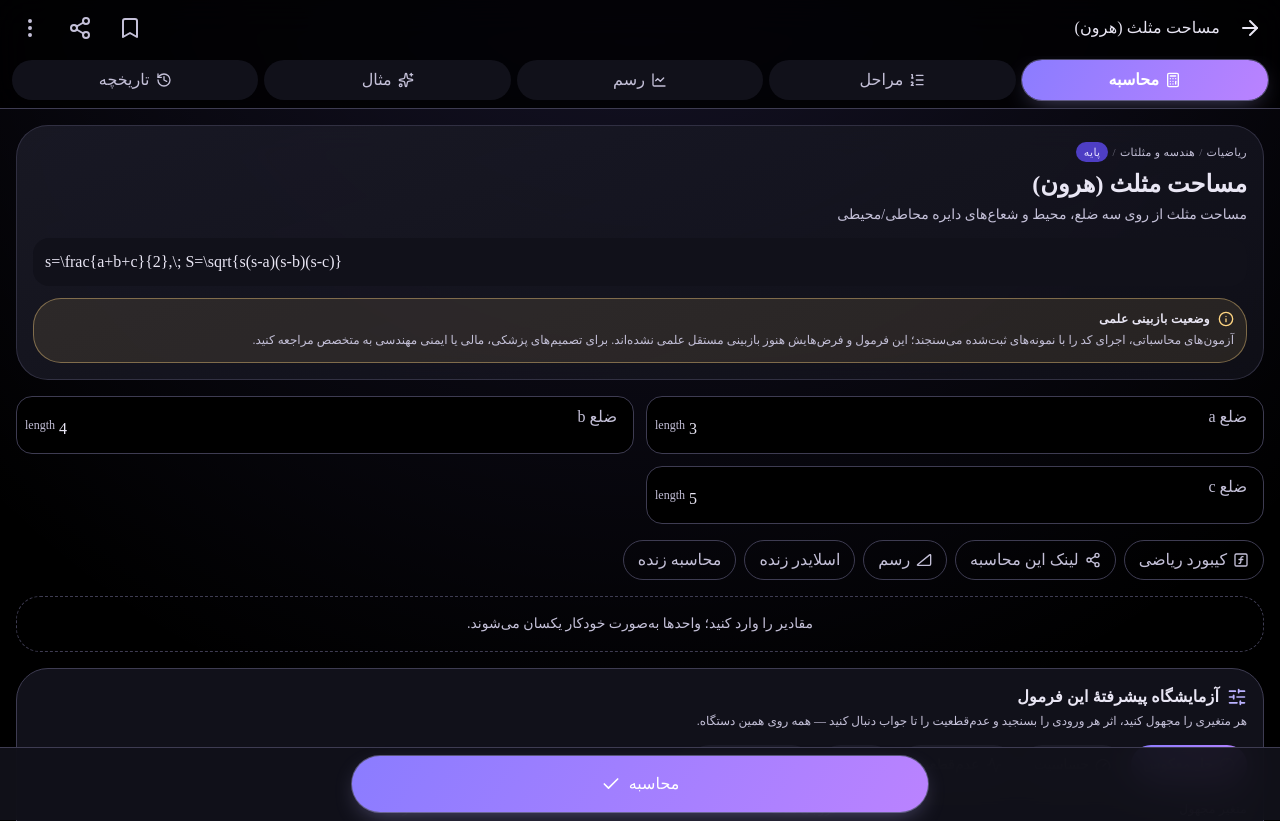
Test: FormulaSolver flow › loads an example into the inputs
The image size is (1280, 821).
Click the tab "مثال": (388, 80) [264,60,511,100]
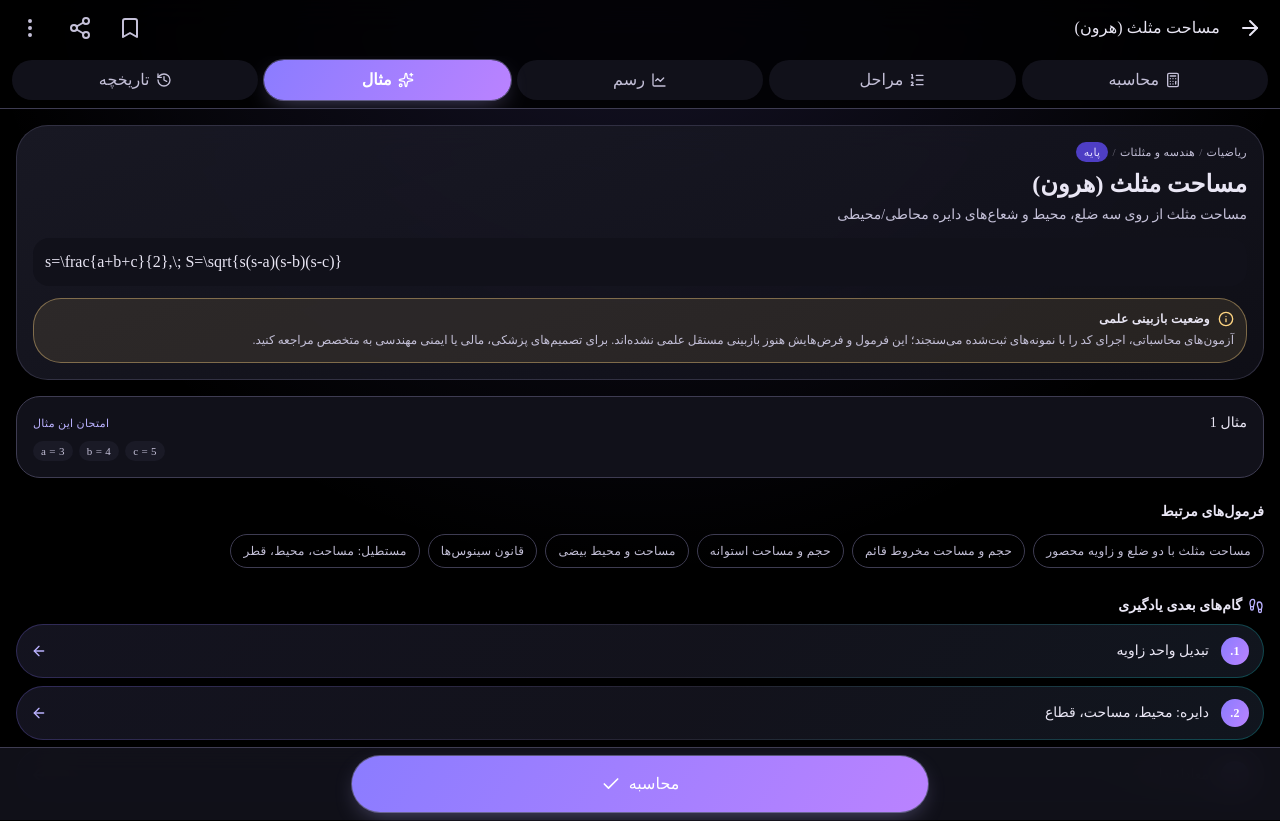
Click the button "مثال 1 امتحان این مثال a = 3 b = 4 c = 5": (71, 423) [16,396,1264,478]
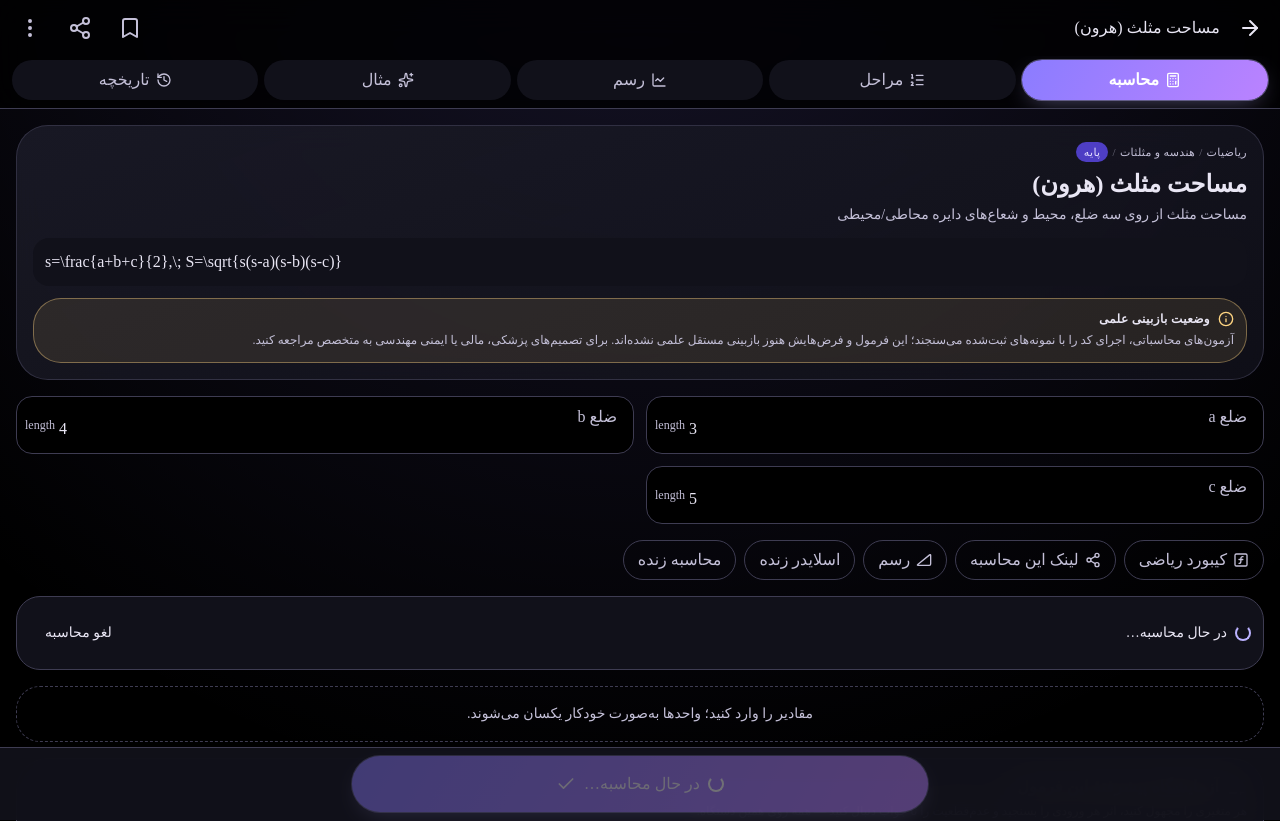
expect the field labelled "ضلع a" holds "3": met, box [689,397,1251,453]
expect the field labelled "ضلع b" holds "4": met, box [59,397,621,453]
expect the field labelled "ضلع c" holds "5": met, box [689,467,1251,523]
